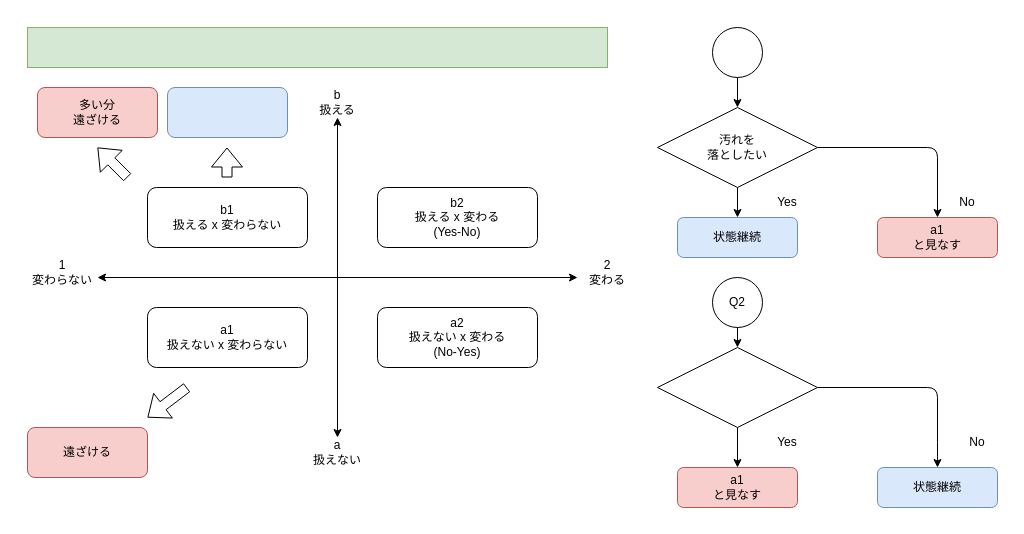
Some shapes in this 1024 by 534 pixel diagram are drawn without their labels. The shapes that lost their labels are listed below. From the top down, each one's box as (x1, y1, x2, y2) in pixels, then its label:
(26, 26, 608, 68): 道草 汚れと消化
(712, 26, 762, 78): Q1
(166, 86, 288, 138): 必要な分 近づける
(656, 346, 818, 428): 消化できている
